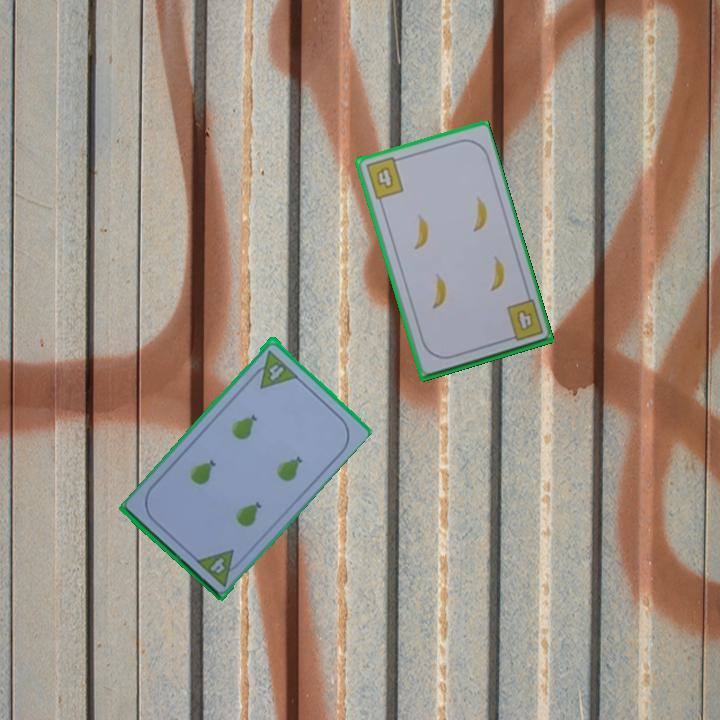4b: (362, 153, 406, 202), (502, 296, 546, 344)
4p: (247, 346, 300, 391), (193, 545, 247, 589)
